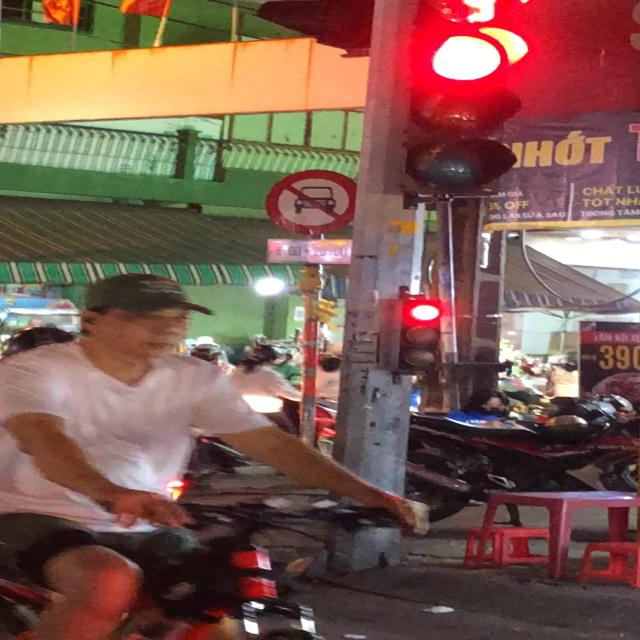Bien bao cam xe oto: (262, 168, 364, 239)
